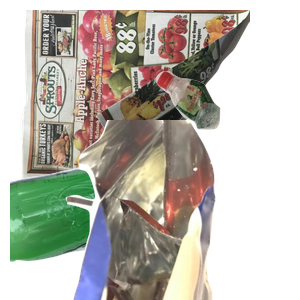glass: (10, 149, 203, 300)
paper: (18, 10, 258, 190)
plastic: (153, 68, 300, 190)
trash: (63, 120, 300, 300)
